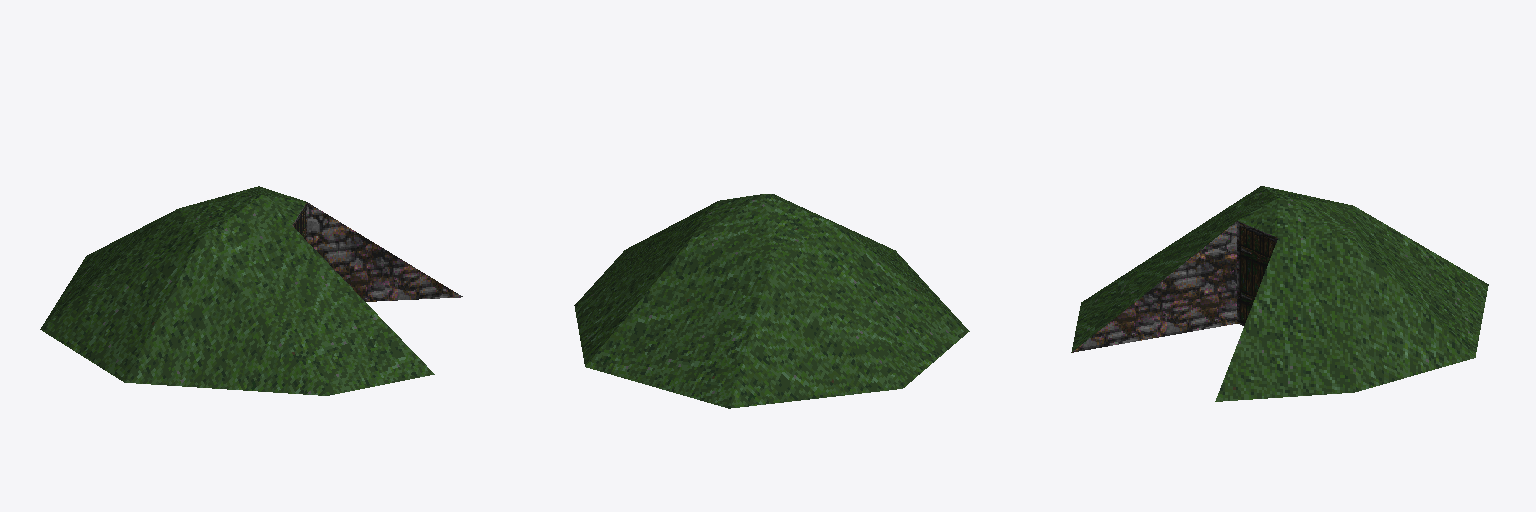
The picture shows the model from 3 angles: view 1: azimuth 30°, elevation 25°; view 2: azimuth 150°, elevation 25°; view 3: azimuth 270°, elevation 25°; orthographic projection.
Parts seen in each view (by area): view 1: model43601-node_model43601; view 2: model43601-node_model43601; view 3: model43601-node_model43601.
Boxes of the visible parts, x1=… form: model43601-node_model43601: x1=40, y1=186, x2=462, y2=395; model43601-node_model43601: x1=574, y1=194, x2=969, y2=408; model43601-node_model43601: x1=1071, y1=186, x2=1488, y2=401.
Size of the model in its own units: 6.95 by 2.29 by 7.16.
3 materials, 3 textured.